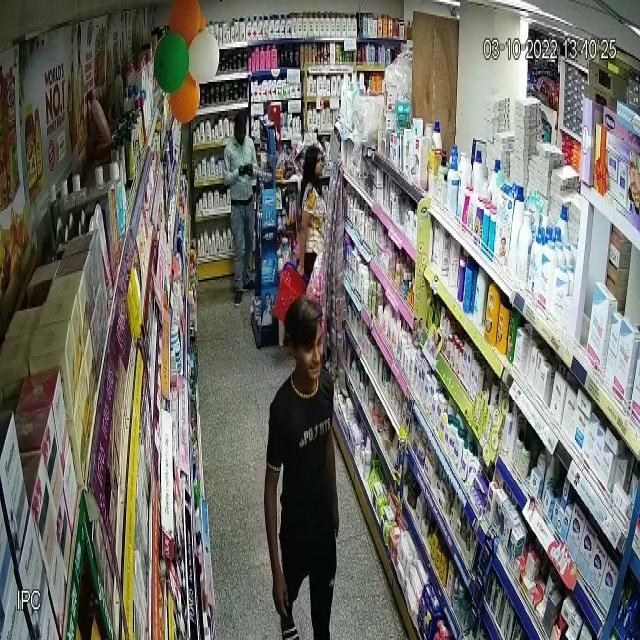Normal: (241, 286, 375, 634)
